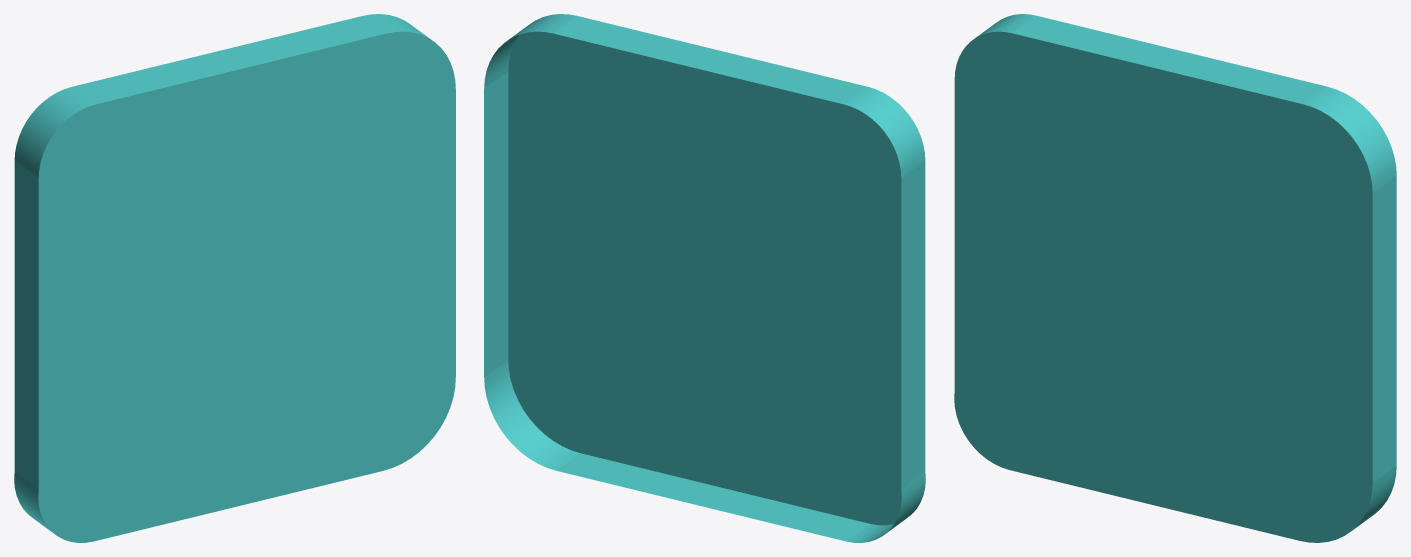
File: original-13.obj
3 renders of one model, left to right at view 1: azimuth 30°, elevation 25°; view 2: azimuth 150°, elevation 25°; view 3: azimuth 330°, elevation 25°, orthographic.
Visible parts, largest first — view 1: mesh17/mesh17-geometry/material_0/component_4#mesh17-geometry; view 2: mesh17/mesh17-geometry/material_0/component_4#mesh17-geometry; view 3: mesh17/mesh17-geometry/material_0/component_4#mesh17-geometry.
Boxes of the visible parts, <box> form: mesh17/mesh17-geometry/material_0/component_4#mesh17-geometry: <box>14,14,455,542</box>; mesh17/mesh17-geometry/material_0/component_4#mesh17-geometry: <box>484,14,925,542</box>; mesh17/mesh17-geometry/material_0/component_4#mesh17-geometry: <box>954,14,1396,542</box>.
Size of the model in its own units: 0.1061 by 0.106 by 0.0106.
